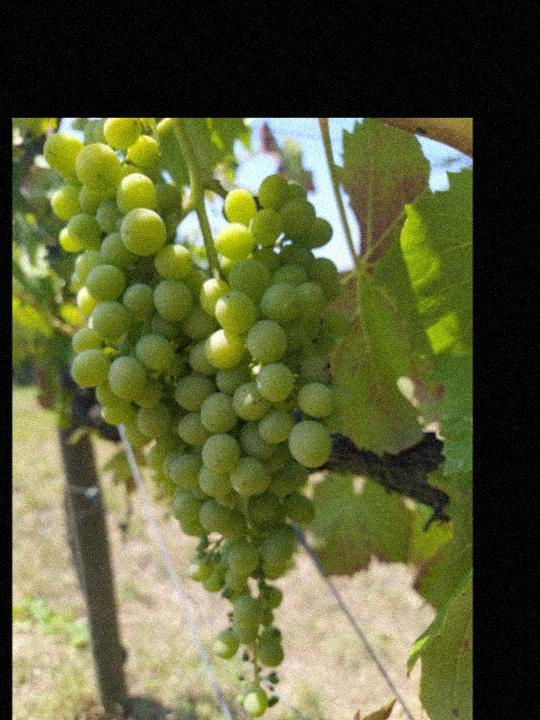grape: (40, 120, 341, 720)
